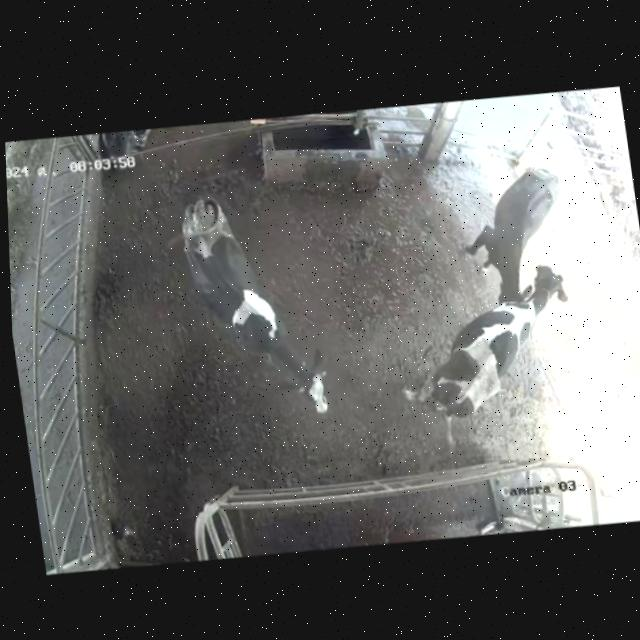stand: (142, 178, 342, 435), (393, 255, 594, 439), (441, 148, 577, 311)
